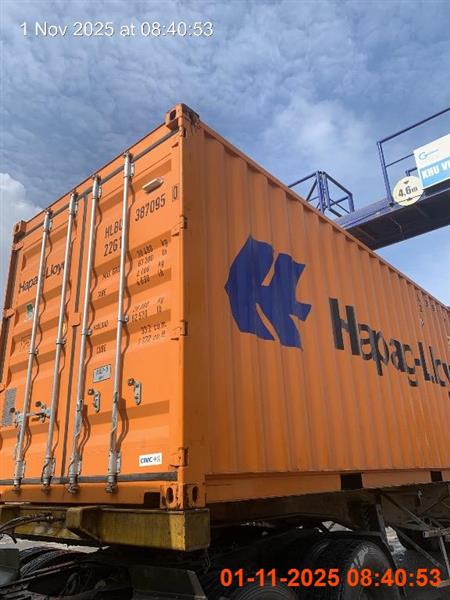broken: (0, 104, 449, 591)
